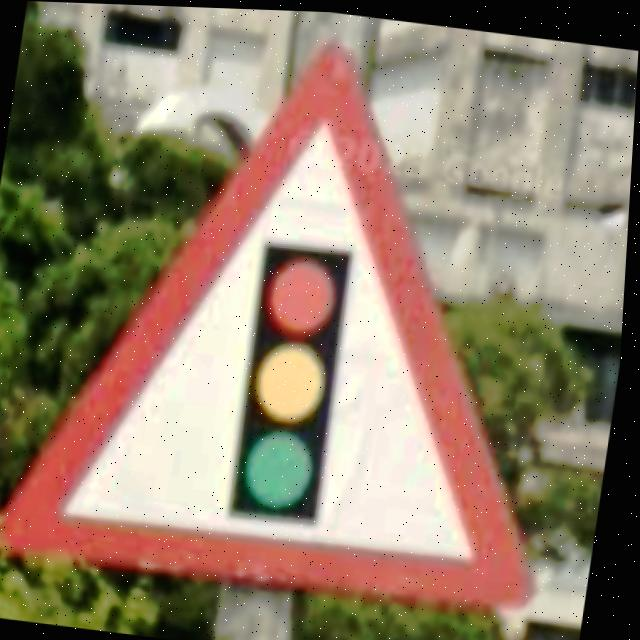signalahead: (1, 43, 539, 606)
